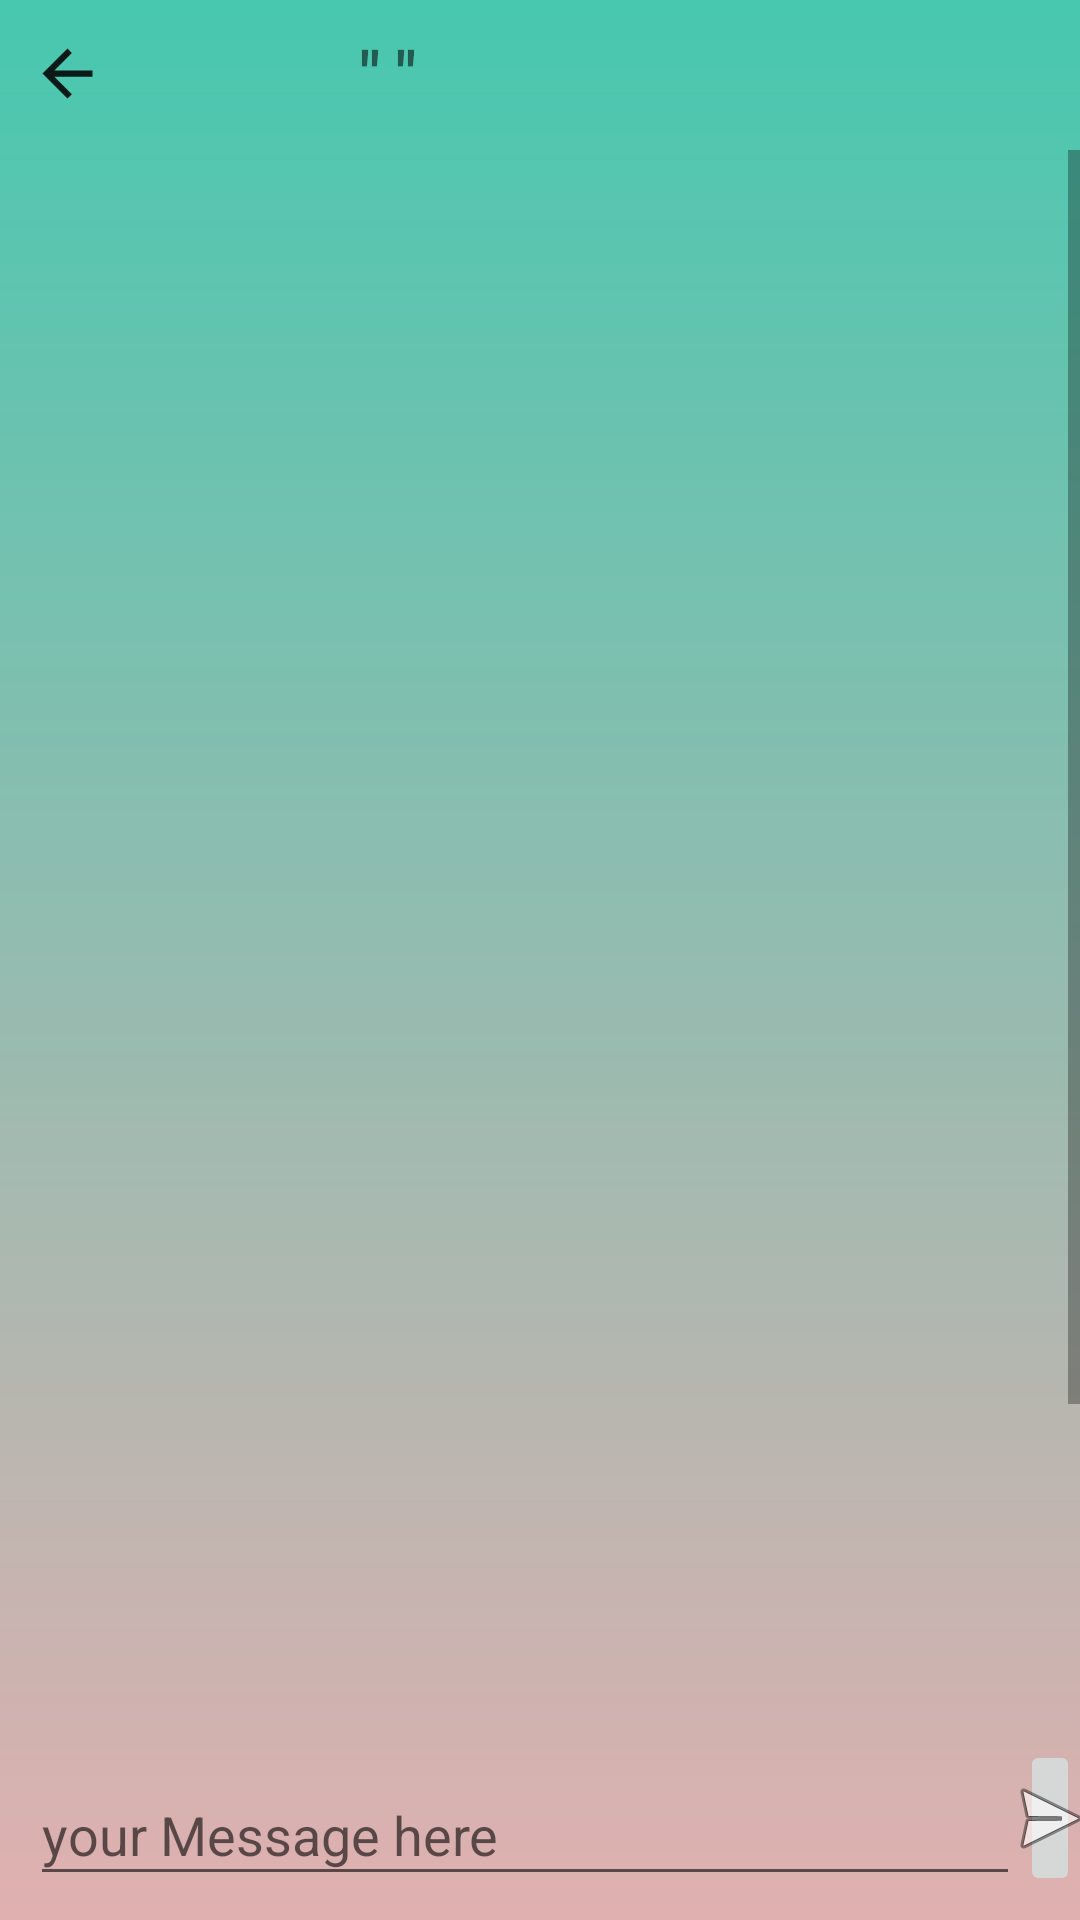

Icons on this 1080w x 1920h Android screen, each with the point to tap as point (x, y):
send: point (1050, 1818)
